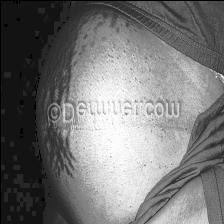Toxin: (43, 135, 69, 178), (50, 50, 68, 92)
